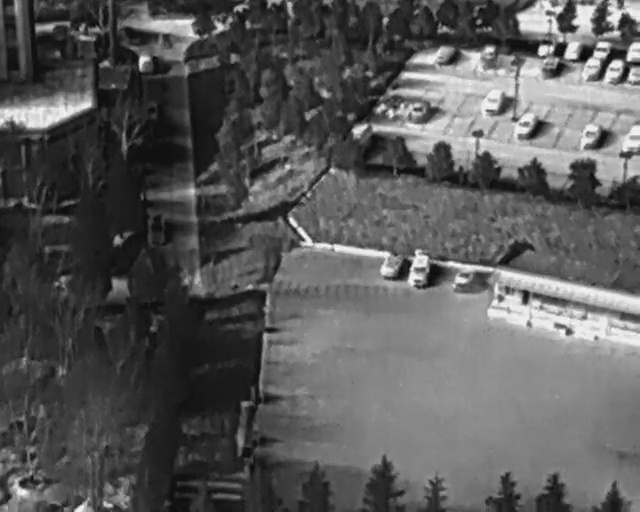Car: (405, 250, 436, 292), (377, 248, 407, 284), (377, 91, 409, 122), (602, 55, 627, 86), (146, 212, 167, 247), (480, 89, 505, 116), (436, 43, 461, 67), (517, 112, 538, 139), (453, 268, 475, 293), (584, 55, 602, 83), (581, 121, 599, 148), (537, 33, 556, 57), (624, 125, 639, 155), (593, 40, 612, 60), (138, 51, 153, 73), (565, 39, 580, 61), (628, 40, 640, 61), (629, 63, 640, 84)
